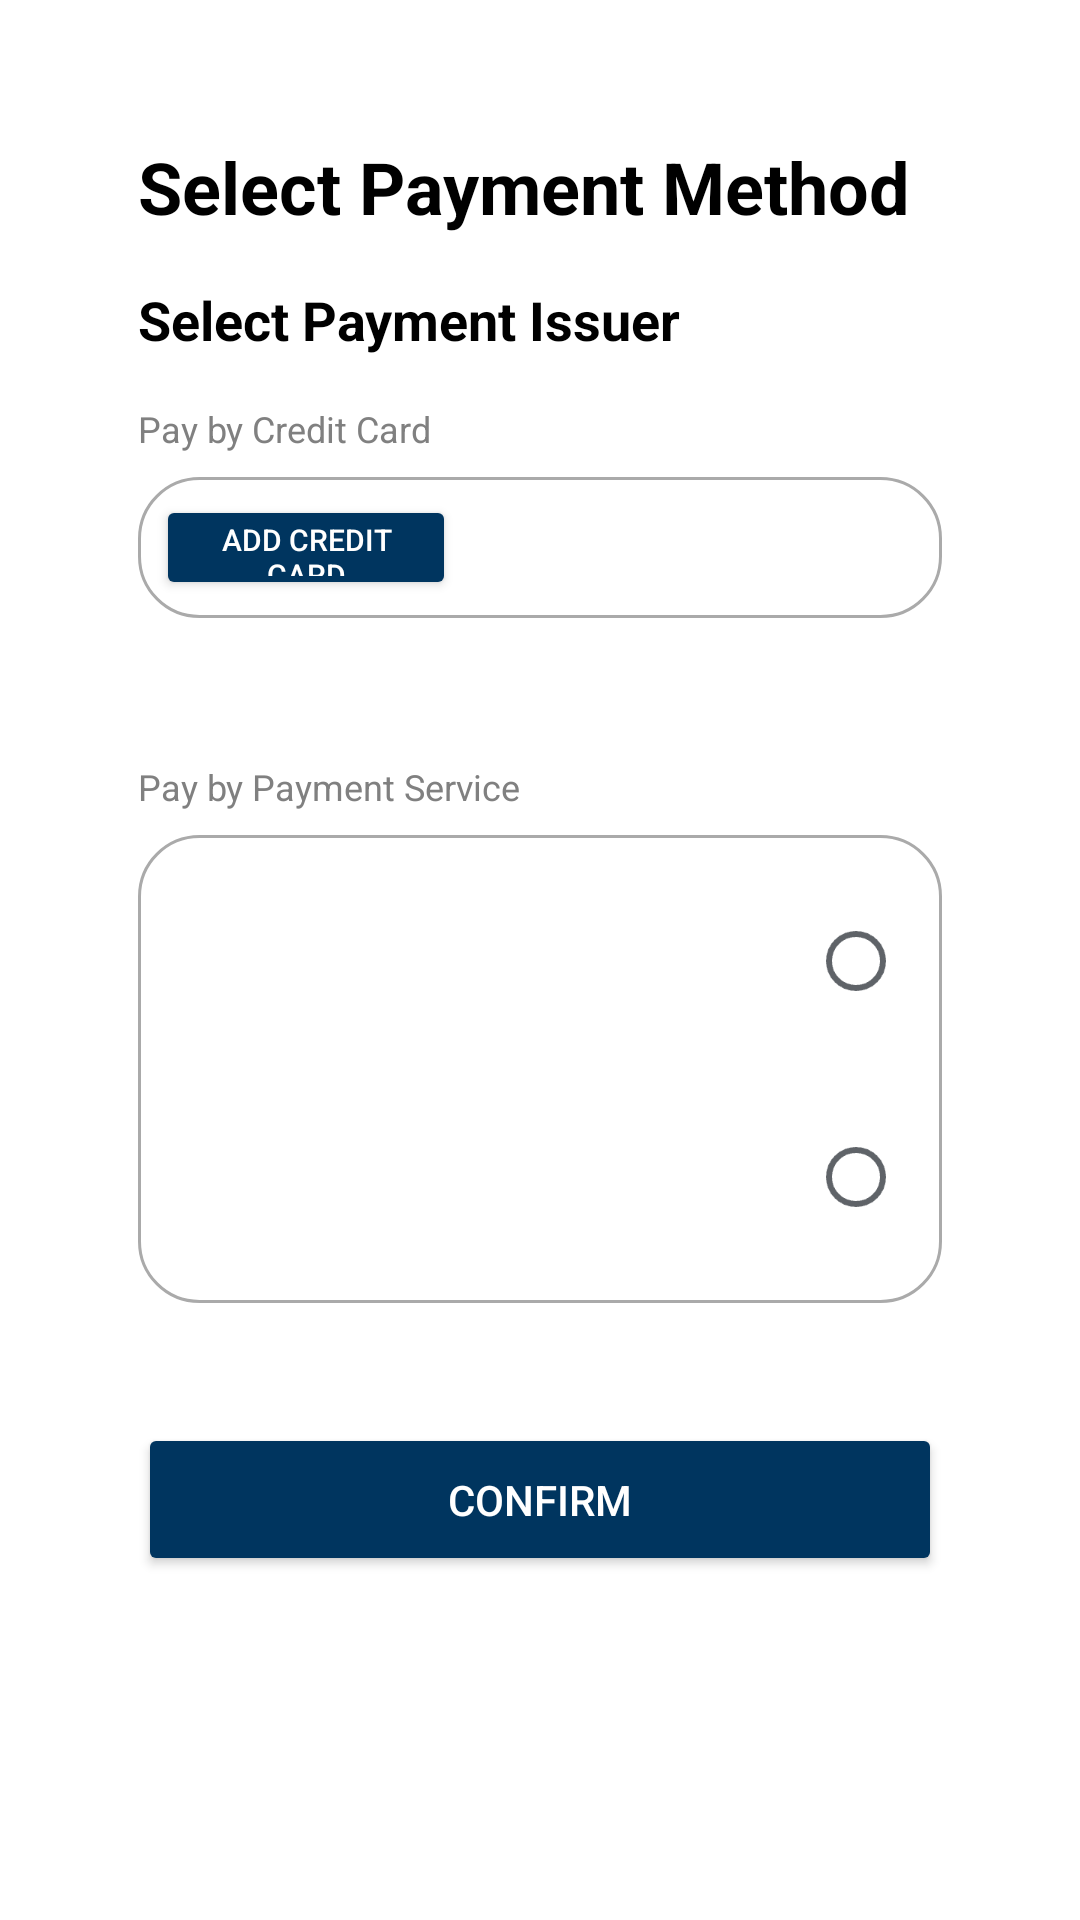

Named icons in this screenshot (1080w x 1920h) and their bounding boxes, detection(x1, y1, x2, y2):
unchecked: detection(826, 931, 886, 991), detection(826, 1147, 886, 1207)
